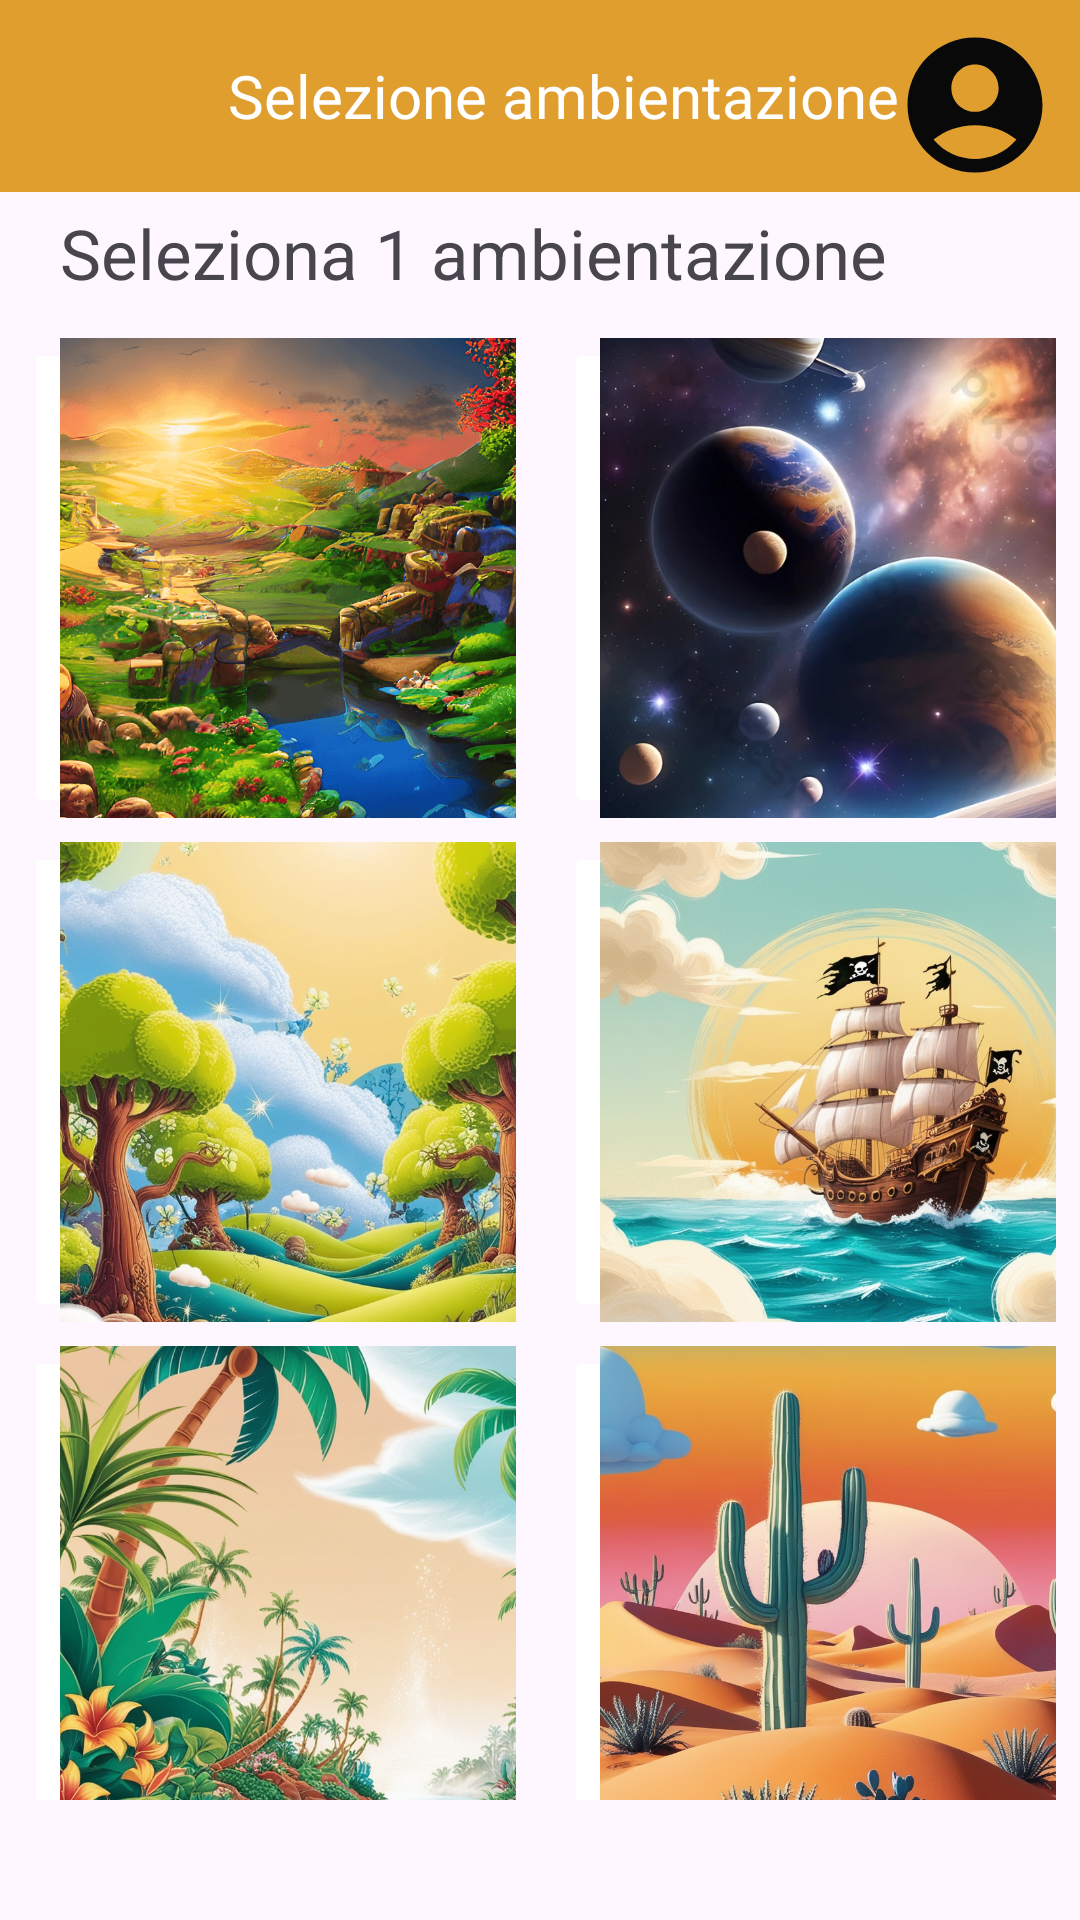

Icon click points for this 1080 × 1920 phone screenshot, format (x,y):
account circle: (956,105)
